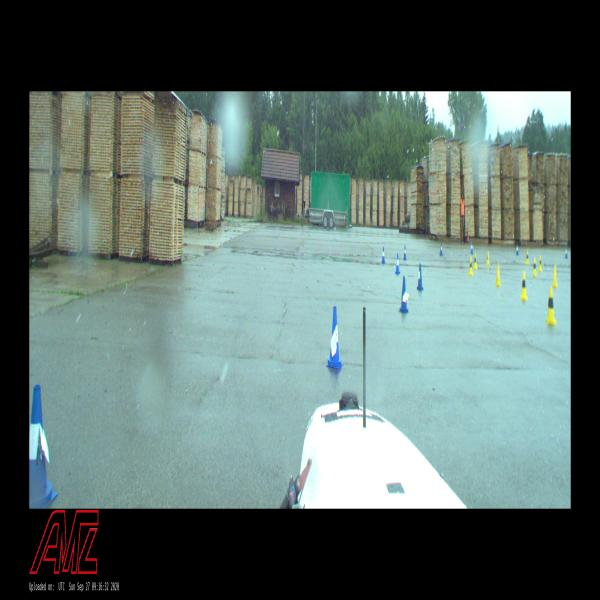blue_cone: (30, 384, 58, 508), (326, 306, 344, 370), (398, 276, 409, 313), (416, 263, 424, 291), (395, 252, 400, 274), (381, 246, 386, 264), (403, 245, 407, 260), (470, 241, 473, 255), (440, 242, 443, 255), (516, 242, 519, 255), (565, 246, 568, 259)
yellow_cone: (546, 286, 556, 325), (520, 271, 528, 300), (495, 262, 501, 286), (552, 265, 558, 287), (468, 256, 474, 275), (532, 257, 537, 276), (538, 256, 542, 271), (486, 250, 490, 265), (474, 253, 477, 269), (526, 251, 529, 264)
